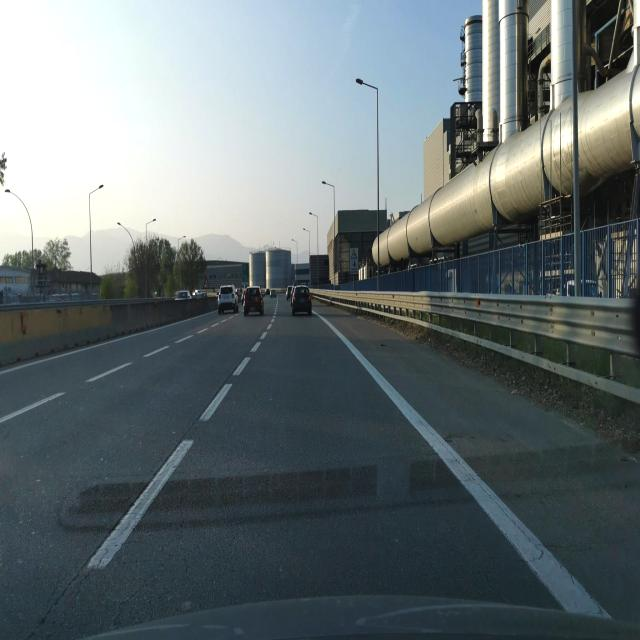car: (290, 284, 312, 317), (243, 285, 265, 317), (217, 284, 239, 315), (174, 289, 191, 300), (286, 285, 294, 302)
